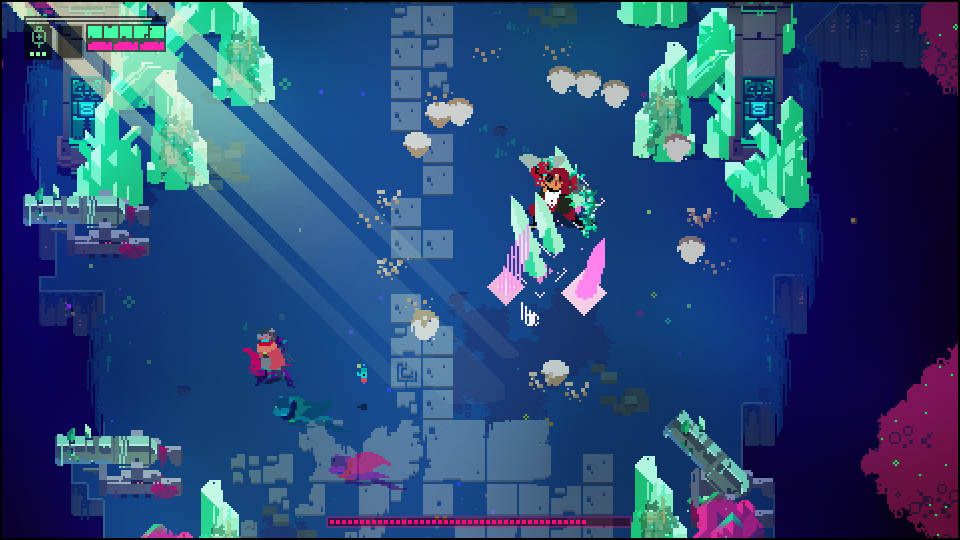hanged_crys: (566, 236, 612, 315), (492, 221, 532, 300)
hanged_man: (516, 145, 604, 236)
player: (249, 326, 295, 389)
